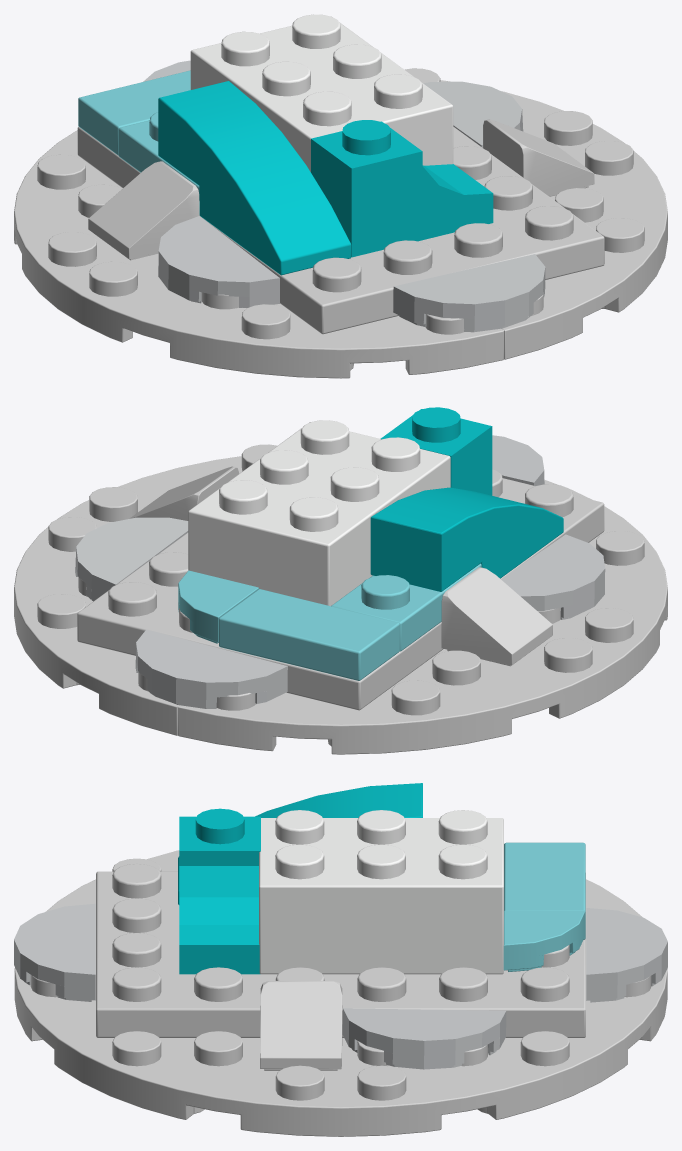
The model's file is Passo7.fbx.
The picture shows the model from 3 angles, top to bottom: view 1: azimuth 30°, elevation 25°; view 2: azimuth 150°, elevation 25°; view 3: azimuth 270°, elevation 25°; orthographic projection.
Visible parts, largest first — view 1: Plate_round_4x8_1.005, Plate_4x6.006, Brick2x3, Slope_curved_3x1.001, Plate_round_4x8.006, Brick_curved_1x2, Tile_round_1x2__1_.004, Tile_round_1x2__2_.004, Slope_1x1__1_.003, Slope_1x1.003, Tile_1x2.002, Tile_round_1x2__3_.004 (+1 smaller); view 2: Plate_round_4x8_1.005, Brick2x3, Plate_round_4x8.006, Plate_4x6.006, Slope_curved_3x1.001, Tile_1x2.002, Tile_round_1x2.004, Slope_1x1__1_.003, Tile_round_1x2__2_.004, Tile_round_1x2__3_.004, Brick_curved_1x2, Plate_1x2.002 (+3 smaller); view 3: Plate_round_4x8.006, Brick2x3, Plate_4x6.006, Brick_curved_1x2, Tile_round_1x2__3_.004, Slope_1x1.003, Tile_round_1x2__1_.004, Tile_round_1x2.004, Tile_1x2.002, Tile_round_1x1_2.002, Slope_curved_3x1.001, Plate_round_4x8_1.005.
Boxes of the visible parts, x1,y1,x2,y2 form: Plate_round_4x8_1.005: (14,130,503,378); Plate_4x6.006: (77,126,604,334); Brick2x3: (190,14,453,171); Slope_curved_3x1.001: (158,81,351,275); Plate_round_4x8.006: (405,68,667,359); Brick_curved_1x2: (311,120,493,257); Tile_round_1x2__1_.004: (393,254,545,332); Tile_round_1x2__2_.004: (158,216,279,307); Slope_1x1__1_.003: (88,161,199,260); Slope_1x1.003: (483,119,594,196); Tile_1x2.002: (78,70,190,155); Tile_round_1x2__3_.004: (423,81,523,147); Plate_round_4x8_1.005: (178,479,667,754); Brick2x3: (188,420,450,606); Plate_round_4x8.006: (14,444,277,735); Plate_4x6.006: (77,469,604,710); Slope_curved_3x1.001: (370,487,563,591); Tile_1x2.002: (219,589,399,680); Tile_round_1x2.004: (135,629,287,708); Slope_1x1__1_.003: (441,567,552,666); Tile_round_1x2__2_.004: (501,534,605,619); Tile_round_1x2__3_.004: (75,517,188,601); Brick_curved_1x2: (380,407,492,495); Plate_1x2.002: (331,563,481,651); Plate_round_4x8.006: (14,969,667,1136); Brick2x3: (259,810,503,974); Plate_4x6.006: (96,864,585,1037); Brick_curved_1x2: (179,808,260,974); Tile_round_1x2__3_.004: (342,1008,506,1069); Slope_1x1.003: (260,981,342,1070); Tile_round_1x2__1_.004: (14,903,95,1001); Tile_round_1x2.004: (586,908,667,1002); Tile_1x2.002: (504,842,585,939); Tile_round_1x1_2.002: (503,910,585,971); Slope_curved_3x1.001: (178,783,422,904); Plate_round_4x8_1.005: (14,850,667,969).
Bounding box in the file's own units: 0.64 × 0.1763 × 0.6405.
